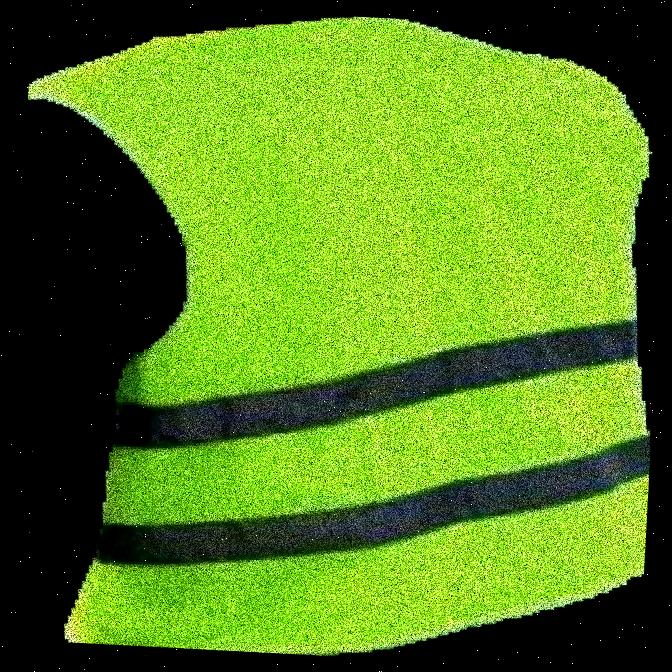Colete: (154, 0, 536, 671)
